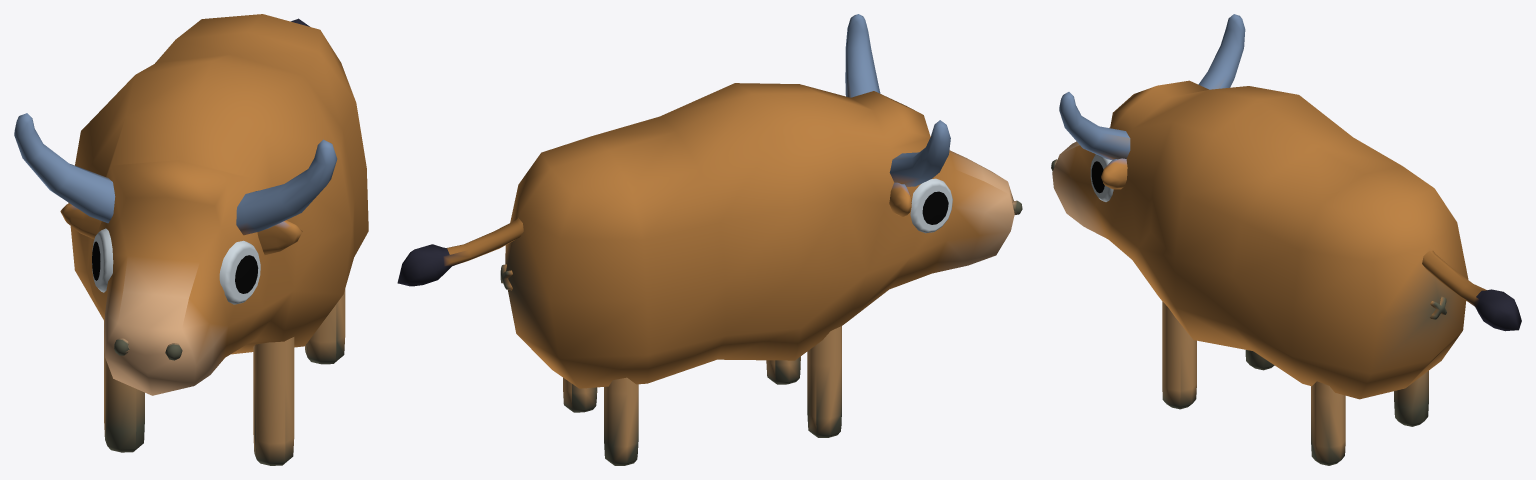
Rendered from Gaur.glb.
The picture shows the model from 3 angles, left to right: view 1: azimuth 30°, elevation 25°; view 2: azimuth 150°, elevation 25°; view 3: azimuth 270°, elevation 25°; orthographic projection. The views are drawn at different scales.
Visible parts, largest first — view 1: 54; view 2: 54; view 3: 54.
Boxes of the visible parts, bbox=[...] form: 54: bbox=[14, 14, 368, 465]; 54: bbox=[397, 14, 1022, 465]; 54: bbox=[1051, 14, 1521, 465].
Bounding box in the file's own units: 1.12 × 0.8629 × 1.2.
